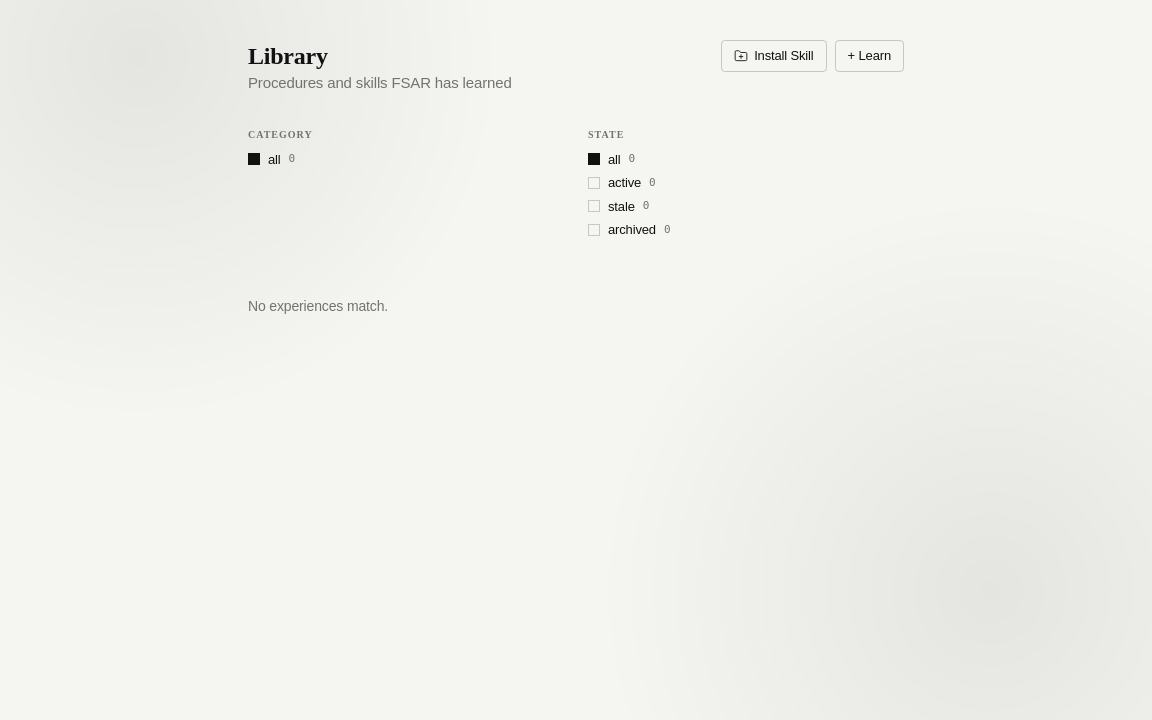
Scenario: Library skill install › shows server errors and re-enables the install button
The width and height of the screenshot is (1152, 720).
Click the button "Install Skill" at [774, 56], box [721,40,827,72]
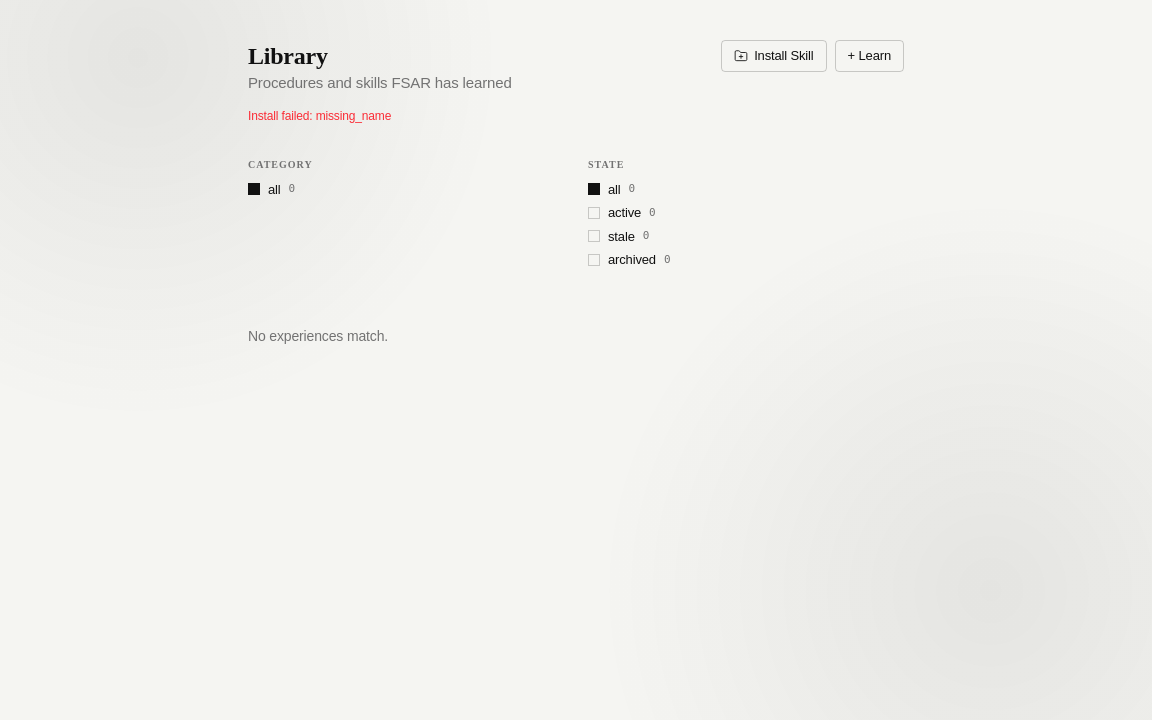
Check: the text "Install failed: missing_name" is shown, box [248,108,391,122]
